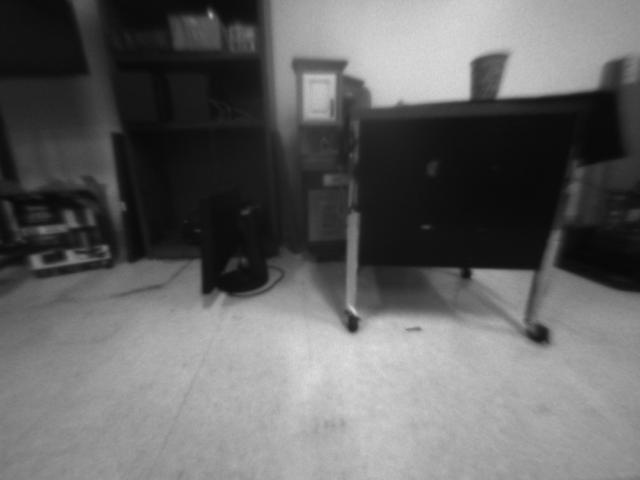coffee_cup: (467, 53, 506, 98)
